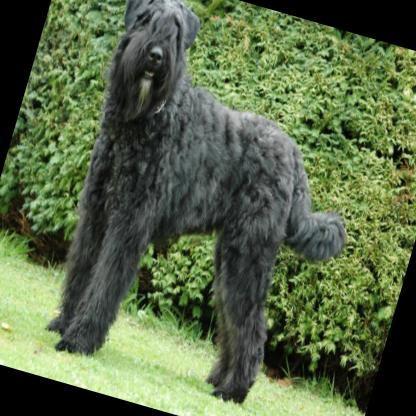Bouvier_des_Flandres: (28, 0, 395, 416)
